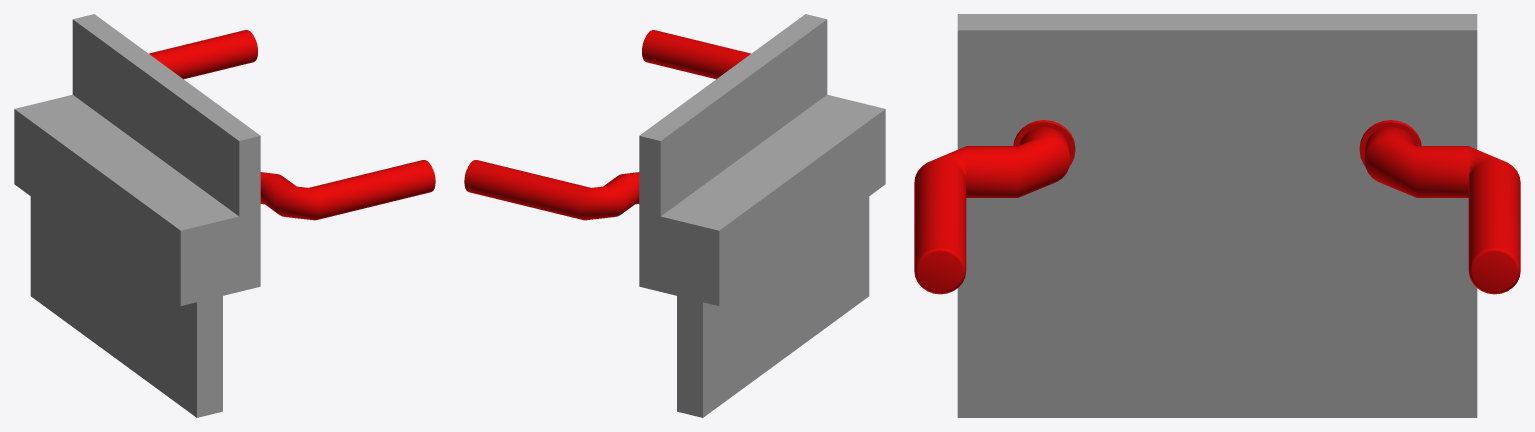
File: PitchForkObstacle.fbx
3 renders of one model, left to right at view 1: azimuth 30°, elevation 25°; view 2: azimuth 150°, elevation 25°; view 3: azimuth 270°, elevation 25°, orthographic. The views are drawn at different scales.
Visible parts, largest first — view 1: Base, Prong_L, Prong_R; view 2: Base, Prong_R, Prong_L; view 3: Base, Prong_L, Prong_R.
Part boxes in pixels (<box>): Base: <box>14,14,260,417</box>; Prong_L: <box>260,160,435,220</box>; Prong_R: <box>149,30,257,79</box>; Base: <box>639,14,885,417</box>; Prong_R: <box>464,160,639,220</box>; Prong_L: <box>642,30,750,79</box>; Base: <box>957,14,1477,417</box>; Prong_L: <box>914,127,1070,294</box>; Prong_R: <box>1364,127,1520,294</box>.
Bounding box in the file's own units: 840 × 884 × 1167.
